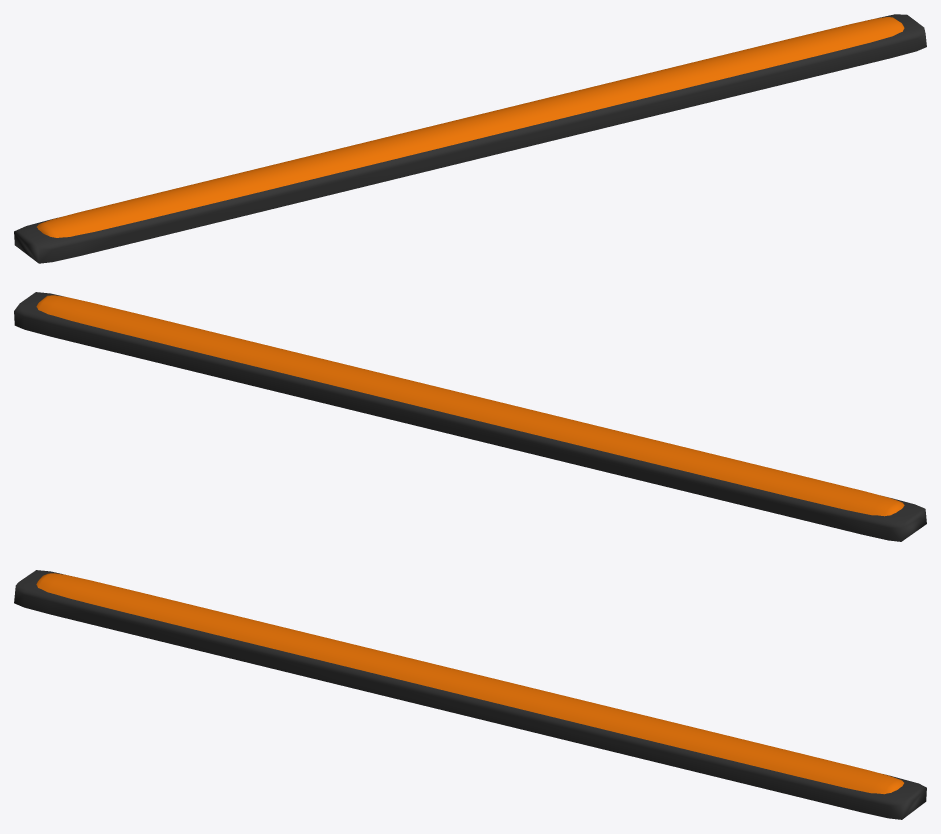
The model's file is StarpowerBar.fbx.
3 renders of one model, top to bottom at view 1: azimuth 30°, elevation 25°; view 2: azimuth 150°, elevation 25°; view 3: azimuth 330°, elevation 25°, orthographic.
Parts seen in each view (by area): view 1: StarpowerBarTop, StarpowerBarBottom; view 2: StarpowerBarTop, StarpowerBarBottom; view 3: StarpowerBarTop, StarpowerBarBottom.
Boxes of the visible parts, x1,y1,x2,y2 form: StarpowerBarTop: (37,17,904,237); StarpowerBarBottom: (14,14,926,263); StarpowerBarTop: (36,295,904,516); StarpowerBarBottom: (14,292,926,541); StarpowerBarTop: (36,573,903,794); StarpowerBarBottom: (14,570,926,819).
Size of the model in its own units: 203 by 5.4 by 11.68.
